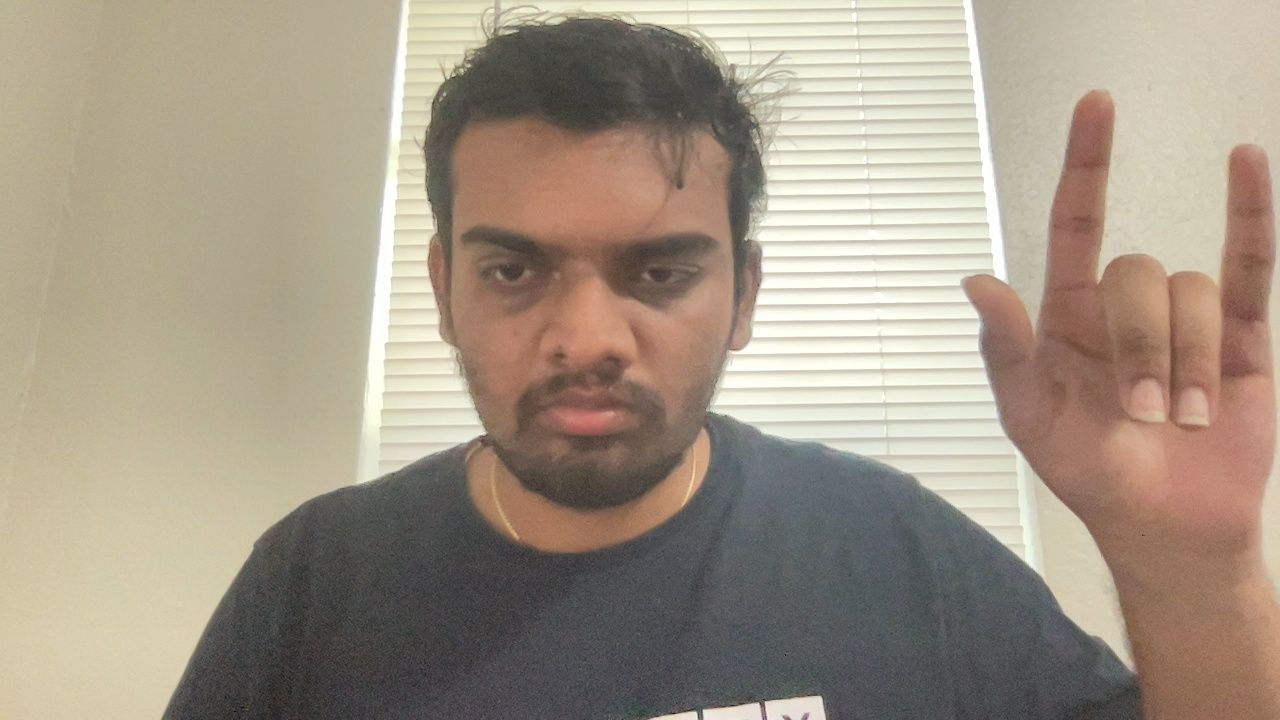i love you: (970, 76, 1275, 533)
